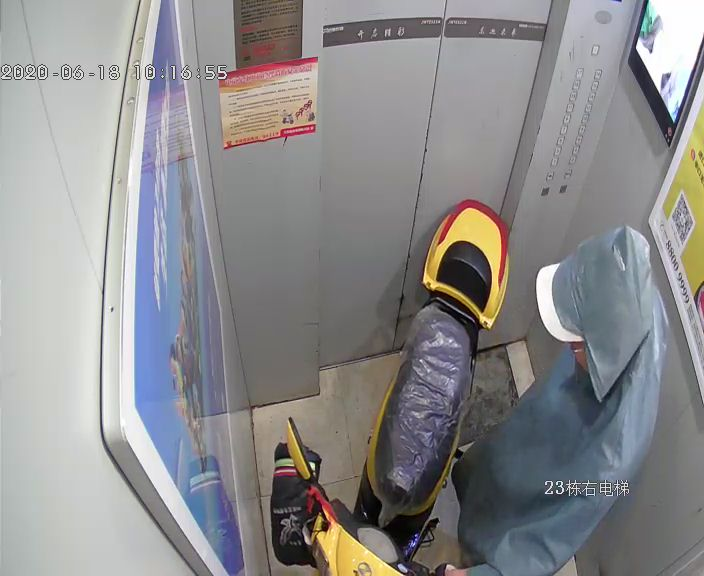Electric-bicycle: (284, 198, 510, 576)
